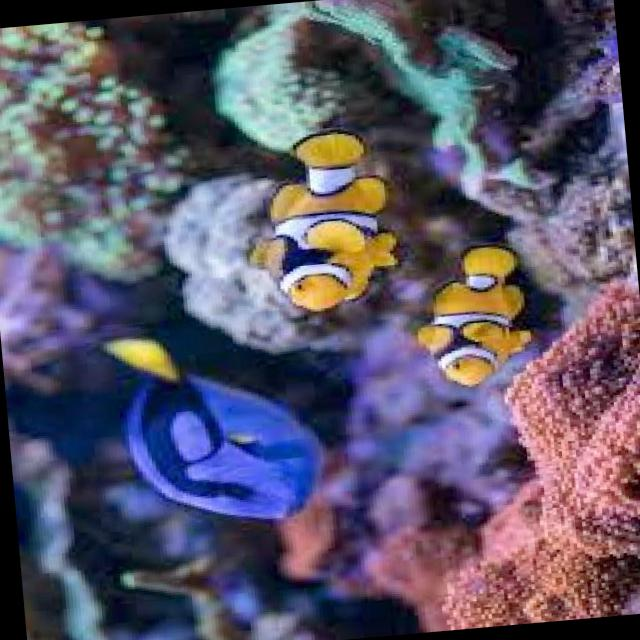ClownFish: (226, 121, 408, 313), (396, 232, 552, 396)
